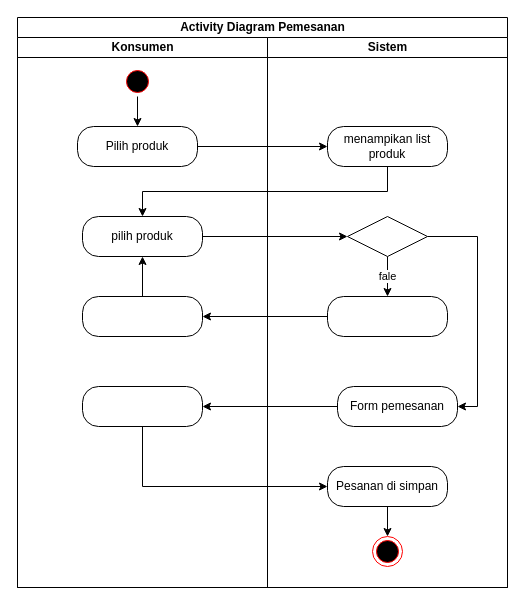
This 525x605 diagram has some shape labels left out. Here are the shapes that lost their labels. From the top down, the centre of each, then its label:
At (387,236): "cek login?".
At (142,316): "melakukan login".
At (387,316): "menu login".
At (142,406): "Isi form pemesanan".
